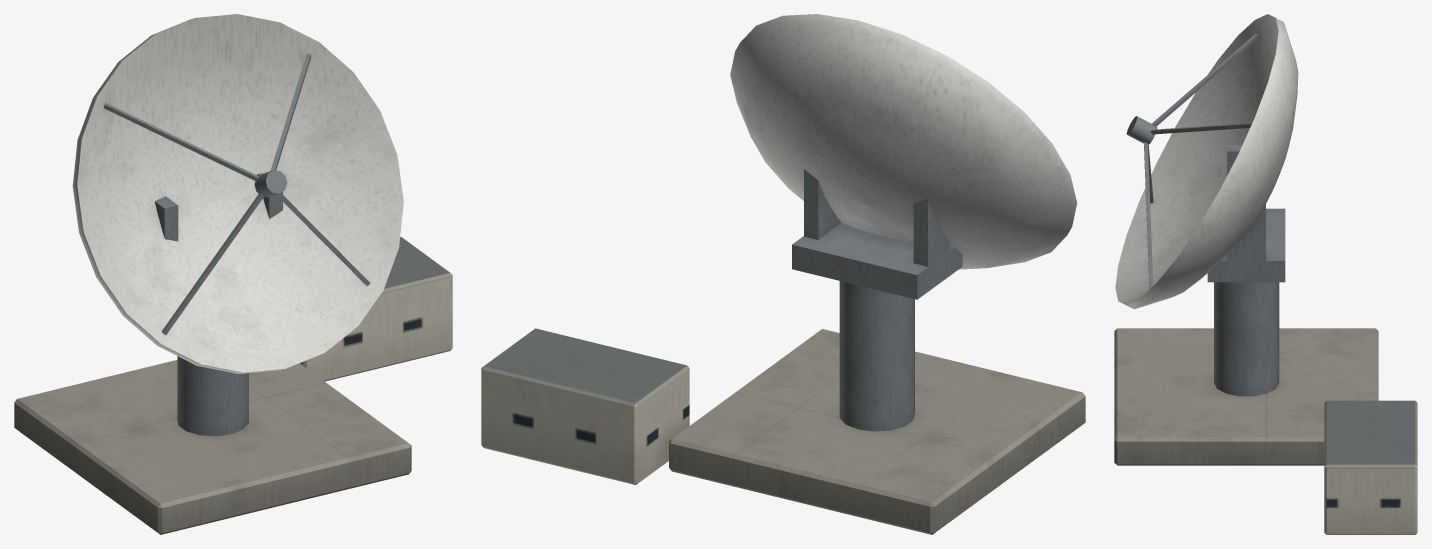
The model's file is radar-dish.fbx.
3 renders of one model, left to right at view 1: azimuth 30°, elevation 25°; view 2: azimuth 150°, elevation 25°; view 3: azimuth 270°, elevation 25°, orthographic. The views are drawn at different scales.
Parts seen in each view (by area): view 1: radar-dish; view 2: radar-dish; view 3: radar-dish.
Part boxes in pixels (box(x1,y1,x2,y2)): radar-dish: box(14, 14, 452, 534); radar-dish: box(481, 14, 1085, 534); radar-dish: box(1114, 14, 1417, 534).
Bounding box in the file's own units: 1652 × 1508 × 1092.
Materials: 1 (1 with a texture image).
